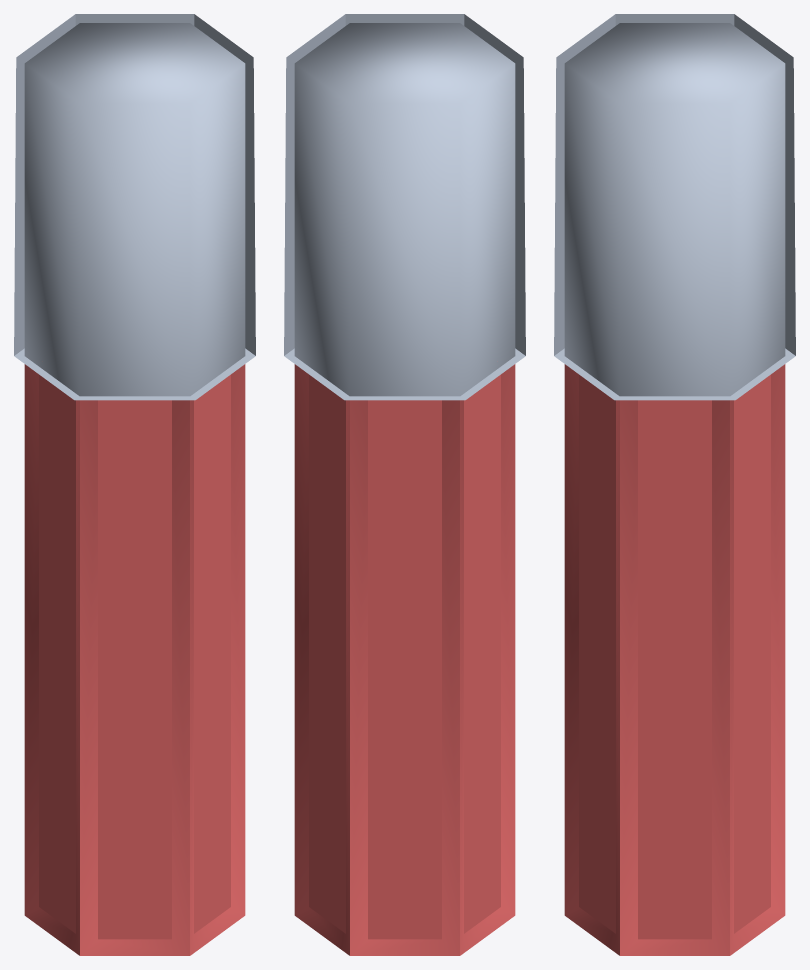
File: Bottle Lip Gloss.glb
The picture shows the model from 3 angles, left to right: view 1: azimuth 30°, elevation 25°; view 2: azimuth 150°, elevation 25°; view 3: azimuth 270°, elevation 25°; orthographic projection.
Parts seen in each view (by area): view 1: bottle_lip_gloss_bottle.001, bottle_lip_gloss.001; view 2: bottle_lip_gloss_bottle.001, bottle_lip_gloss.001; view 3: bottle_lip_gloss_bottle.001, bottle_lip_gloss.001.
Boxes of the visible parts, x1,y1,x2,y2 form: bottle_lip_gloss_bottle.001: (24, 364, 245, 955); bottle_lip_gloss.001: (14, 14, 255, 400); bottle_lip_gloss_bottle.001: (294, 364, 515, 955); bottle_lip_gloss.001: (284, 14, 525, 400); bottle_lip_gloss_bottle.001: (564, 364, 785, 955); bottle_lip_gloss.001: (554, 14, 795, 400).
Bounding box in the file's own units: 3.53 × 15.97 × 4.08.
2 materials, 2 textured.
